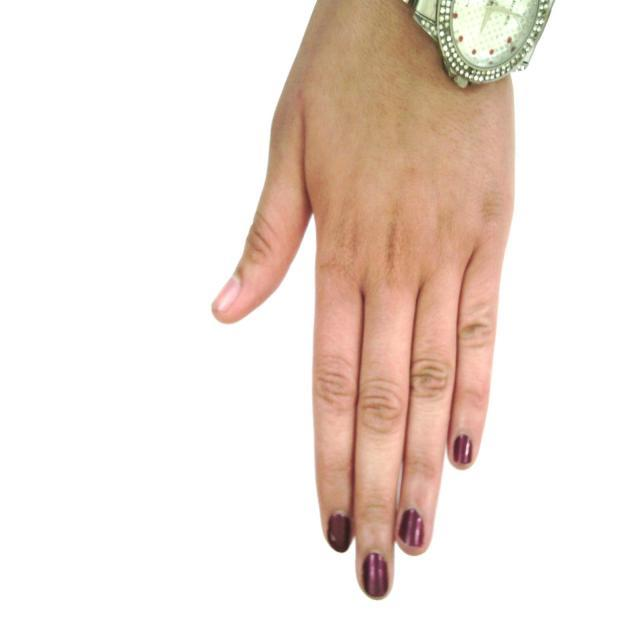Fingernail: (364, 552, 388, 598), (212, 275, 240, 311), (400, 509, 424, 548), (328, 513, 350, 554), (453, 435, 474, 467)
